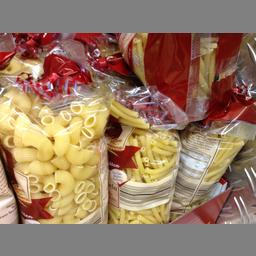pasta: (0, 62, 106, 220), (104, 84, 182, 222)
